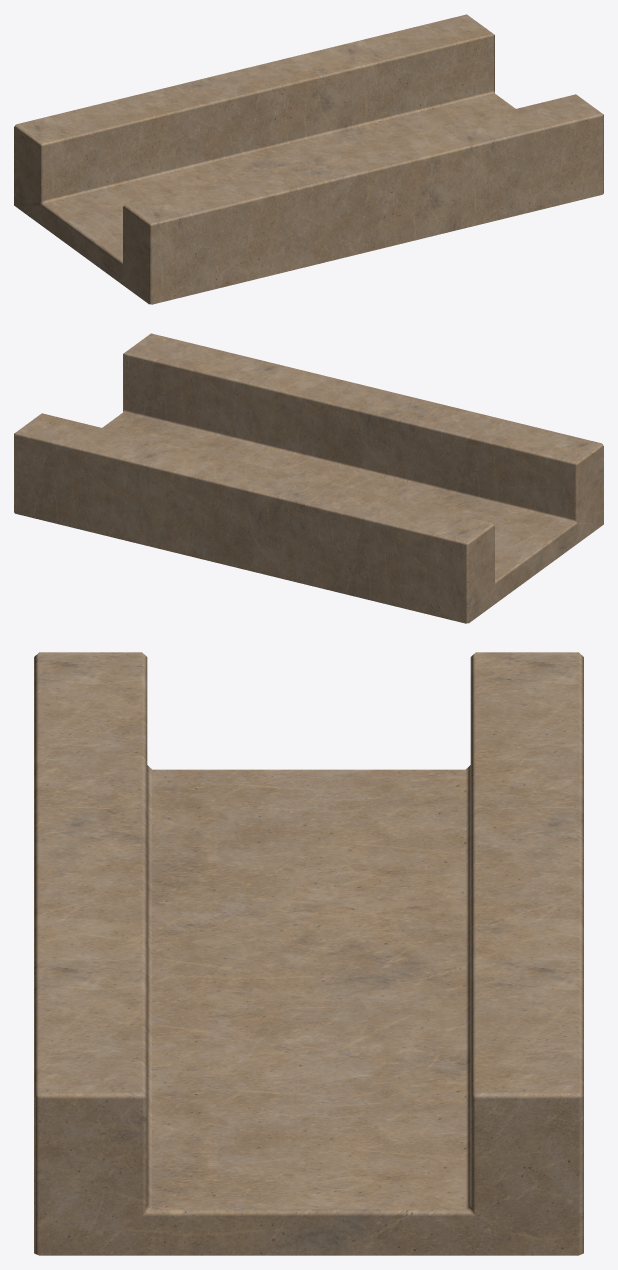
Rendered from SM_MausoleumBaseA.fbx.
The picture shows the model from 3 angles, top to bottom: view 1: azimuth 30°, elevation 25°; view 2: azimuth 150°, elevation 25°; view 3: azimuth 270°, elevation 25°; orthographic projection. The views are drawn at different scales.
Visible parts, largest first — view 1: SM_MausoleumBaseA_LOD0; view 2: SM_MausoleumBaseA_LOD0; view 3: SM_MausoleumBaseA_LOD0.
Part boxes in pixels (<box>): SM_MausoleumBaseA_LOD0: <box>14,14,603,304</box>; SM_MausoleumBaseA_LOD0: <box>14,333,603,623</box>; SM_MausoleumBaseA_LOD0: <box>34,652,583,1255</box>.
Size of the model in its own units: 291 by 152 by 49.18.
Materials: 1 (1 with a texture image).
